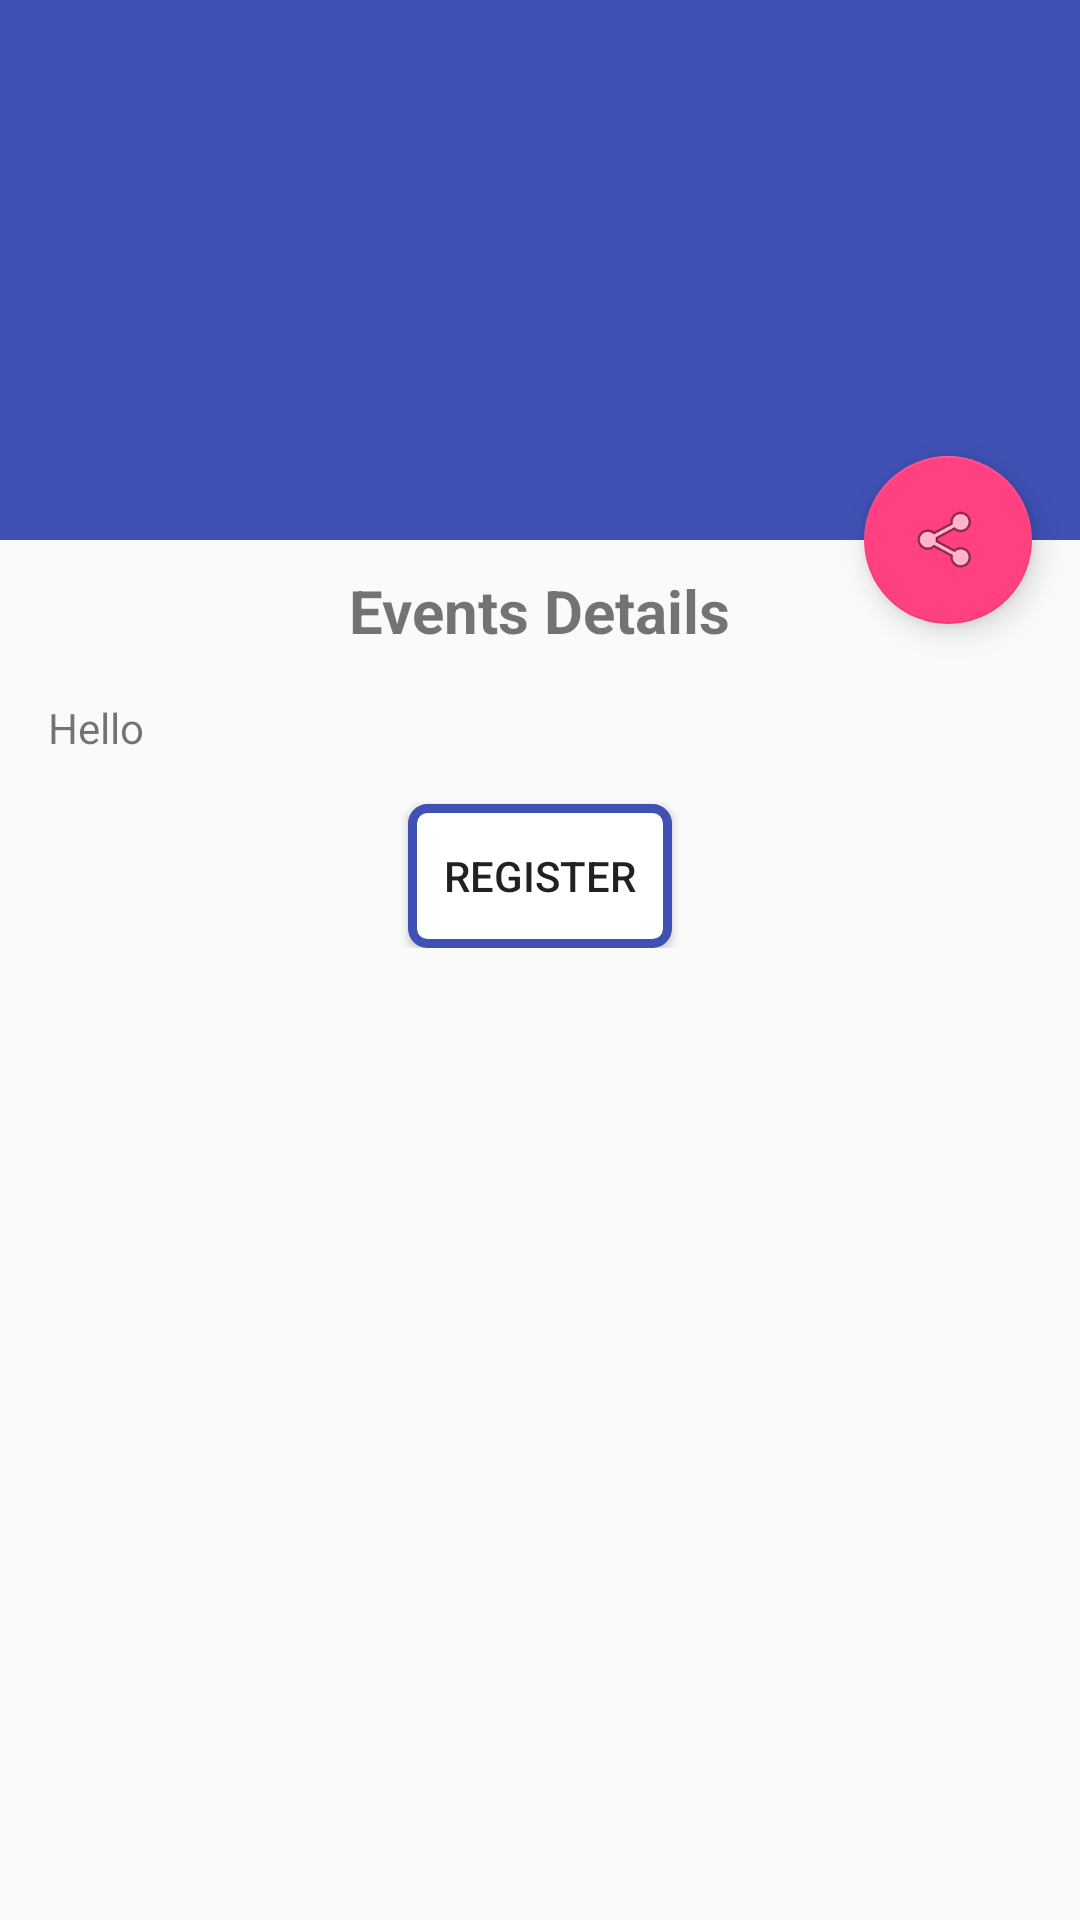

Icon click points for this 1080 × 1920 phone screenshot, format (x,y):
share: (948,540)
